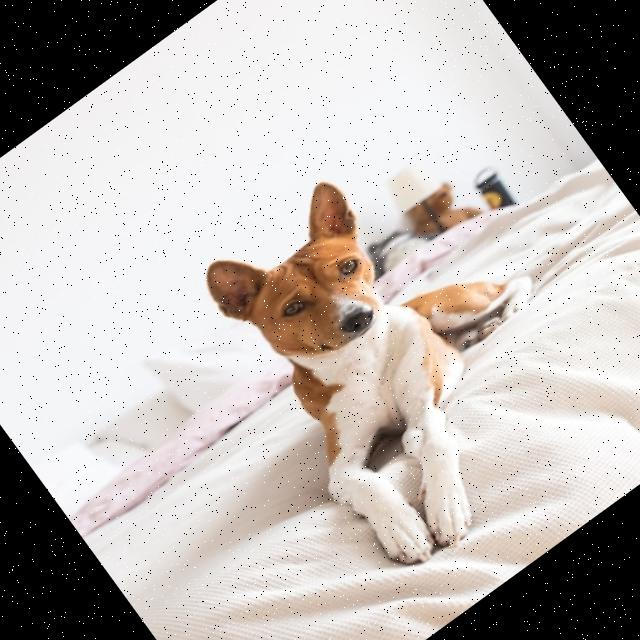Dog: (179, 114, 632, 586)
